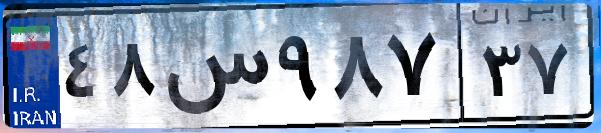3: (475, 38, 525, 113)
4: (57, 26, 110, 100)
7: (385, 28, 445, 110), (525, 38, 570, 115)
8: (330, 28, 385, 110), (110, 28, 158, 98)
9: (270, 28, 330, 110)
س: (158, 20, 270, 120)
